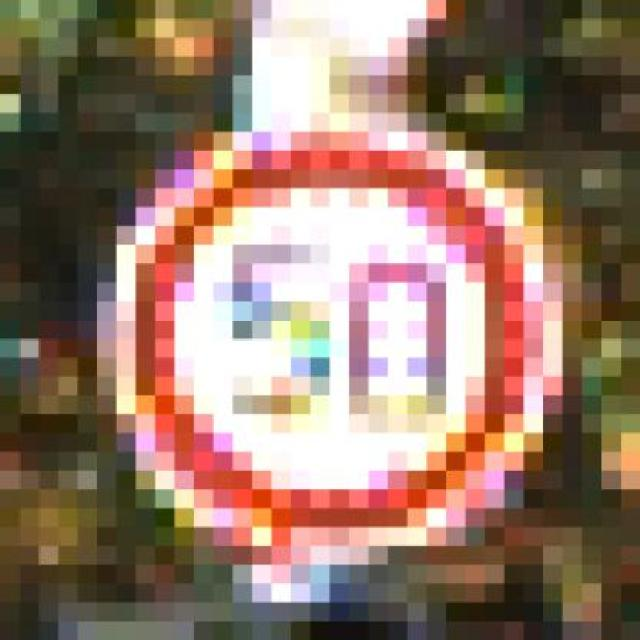50 mph speed limit: (78, 112, 582, 565)
